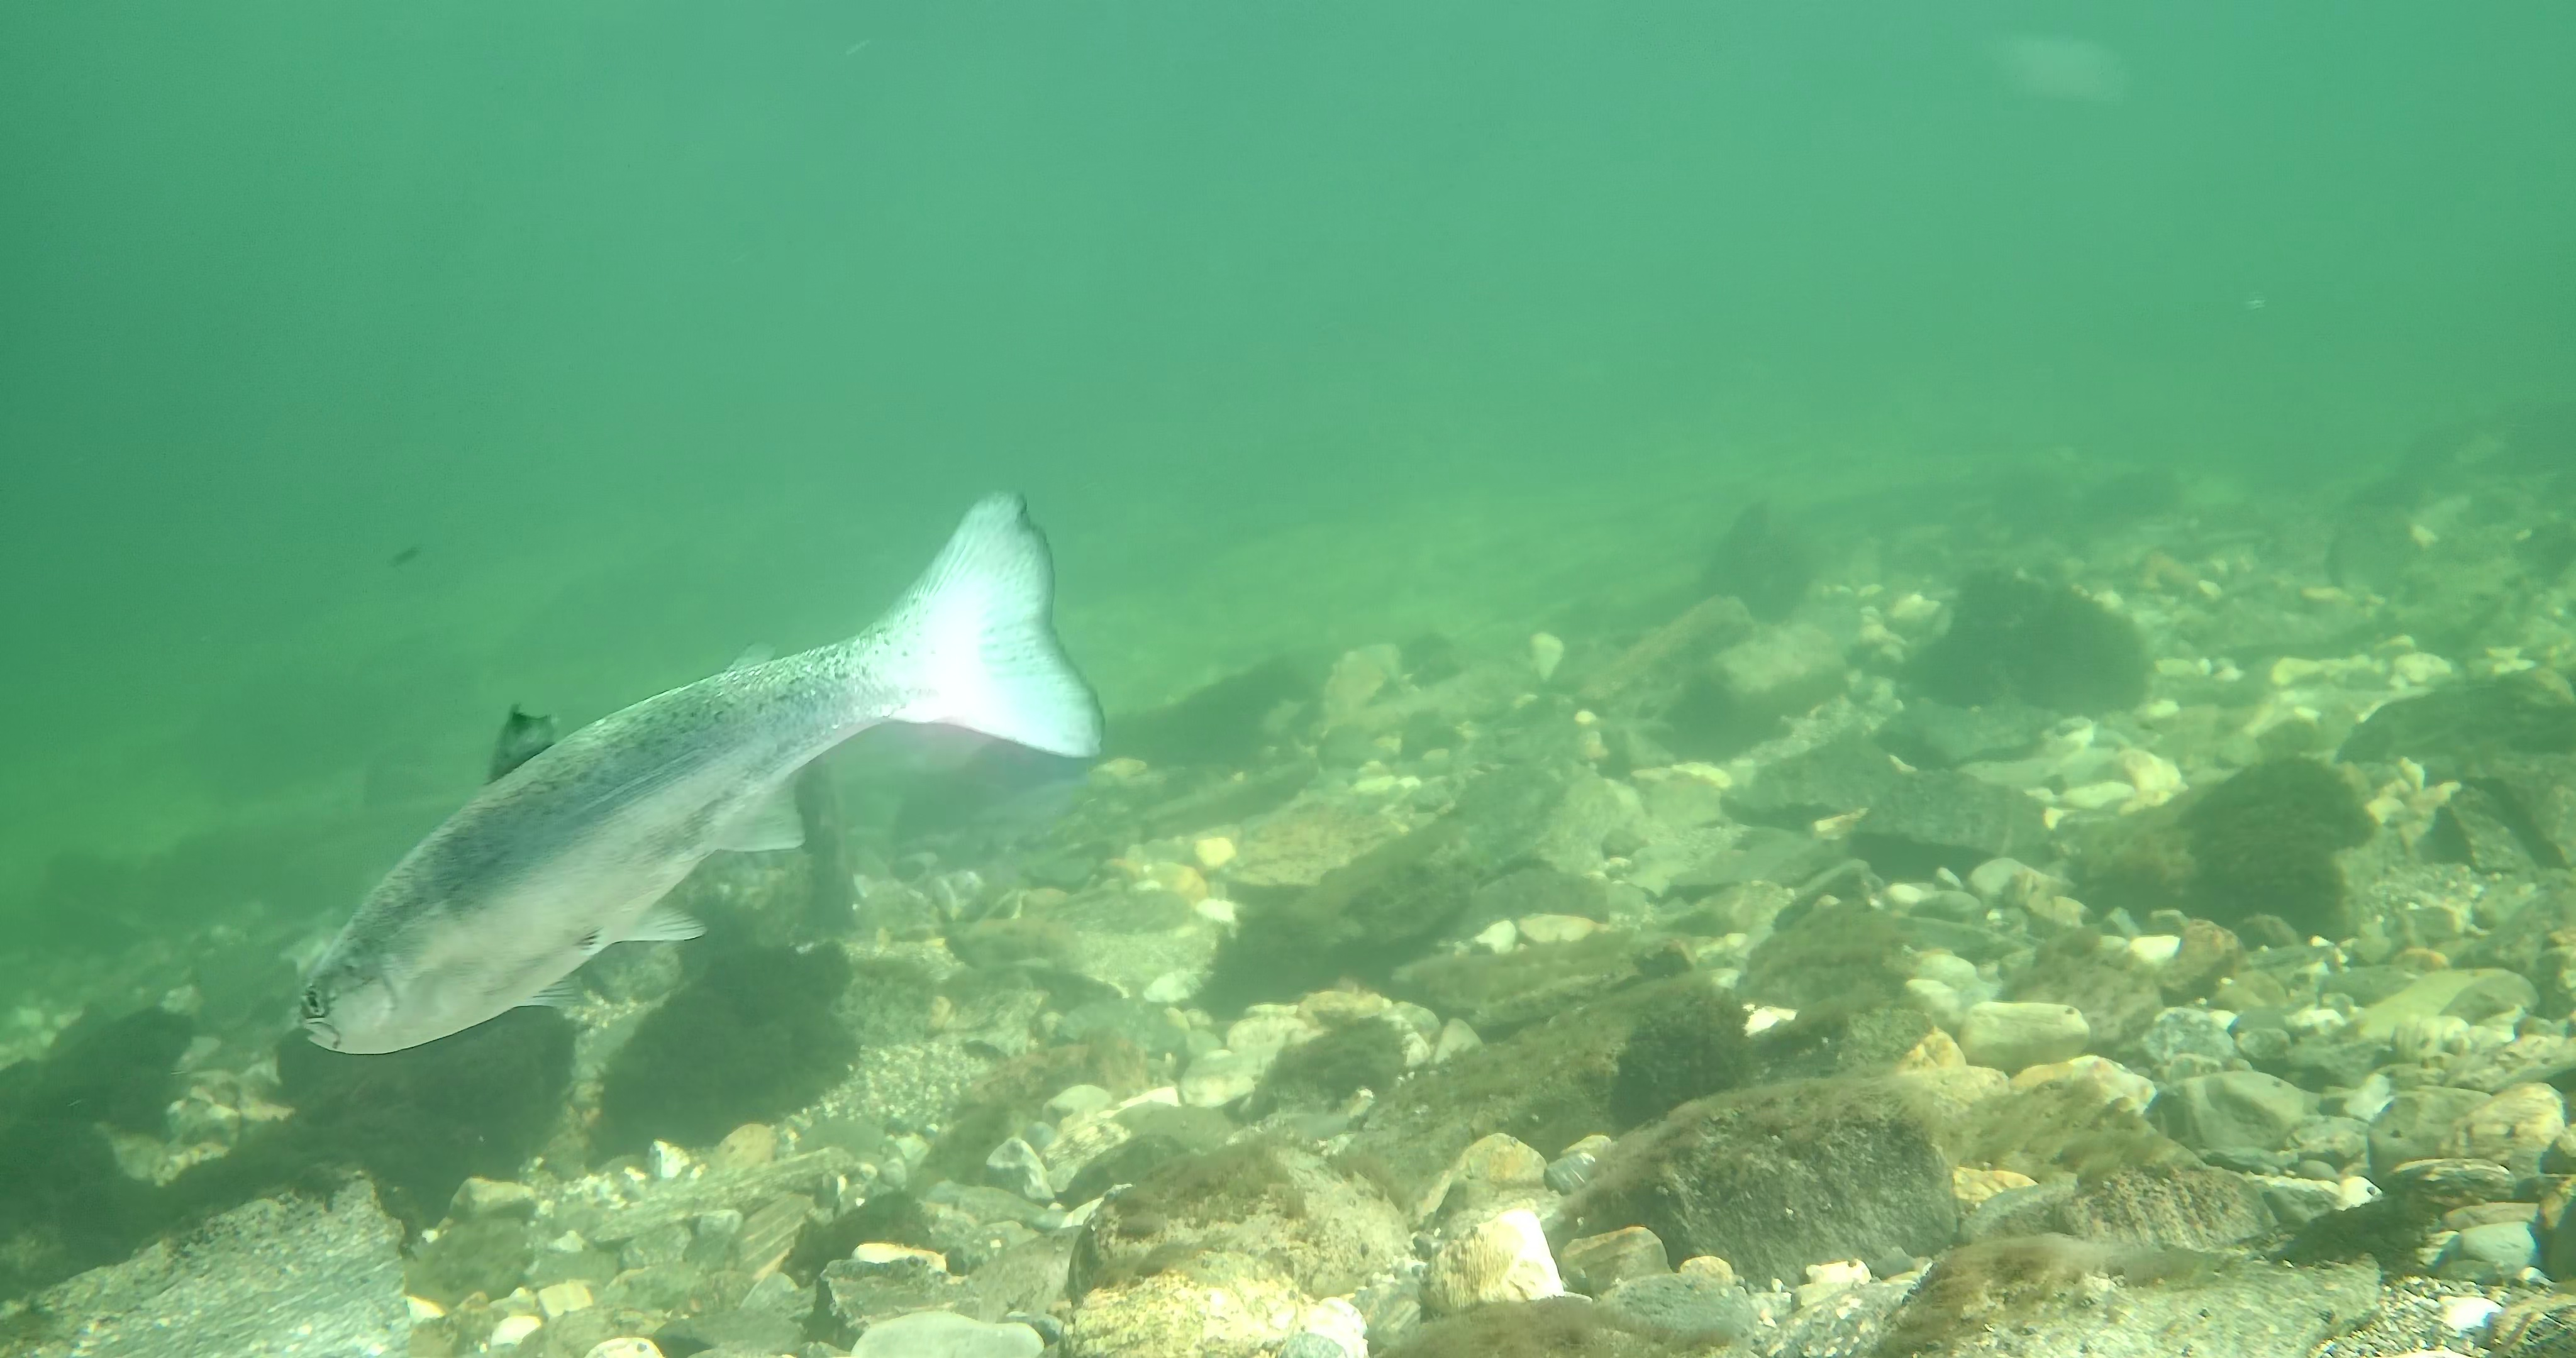salmon: (295, 486, 1107, 1058)
